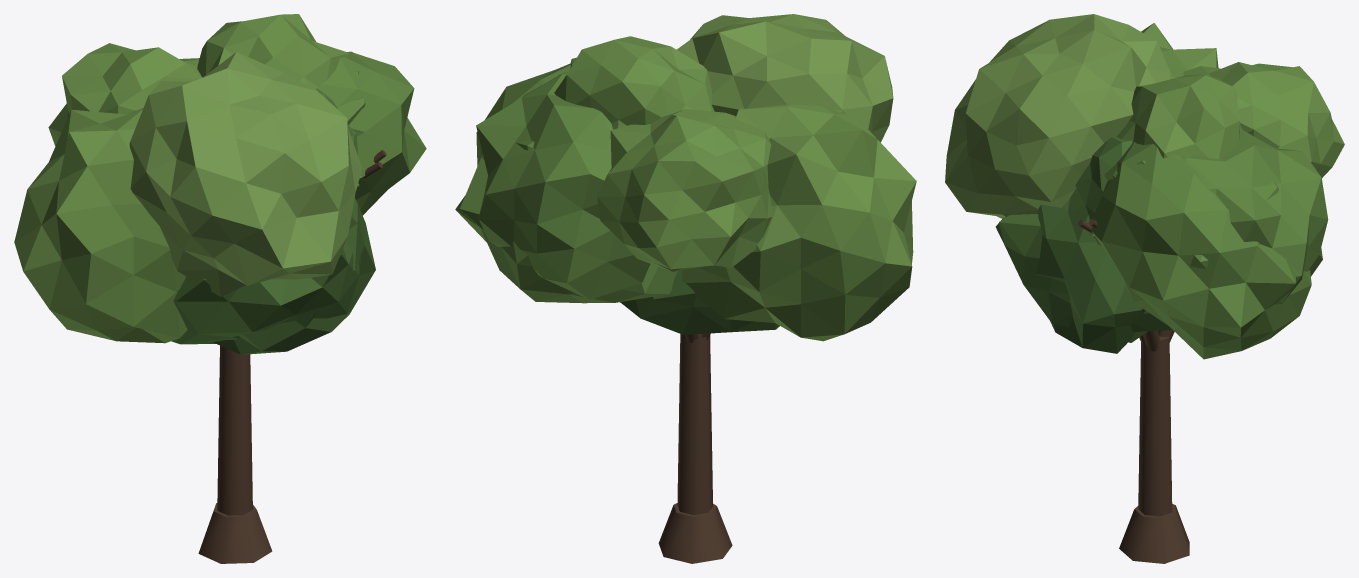
The model's file is tree-broad-5.obj.
3 renders of one model, left to right at view 1: azimuth 30°, elevation 25°; view 2: azimuth 150°, elevation 25°; view 3: azimuth 270°, elevation 25°, orthographic. The views are drawn at different scales.
Visible parts, largest first — view 1: part1; view 2: part1; view 3: part1.
Part boxes in pixels (bbox=[...]): part1: bbox=[14, 14, 426, 563]; part1: bbox=[455, 14, 916, 563]; part1: bbox=[945, 14, 1344, 563].
Size of the model in its own units: 6.36 by 7.59 by 5.5.
